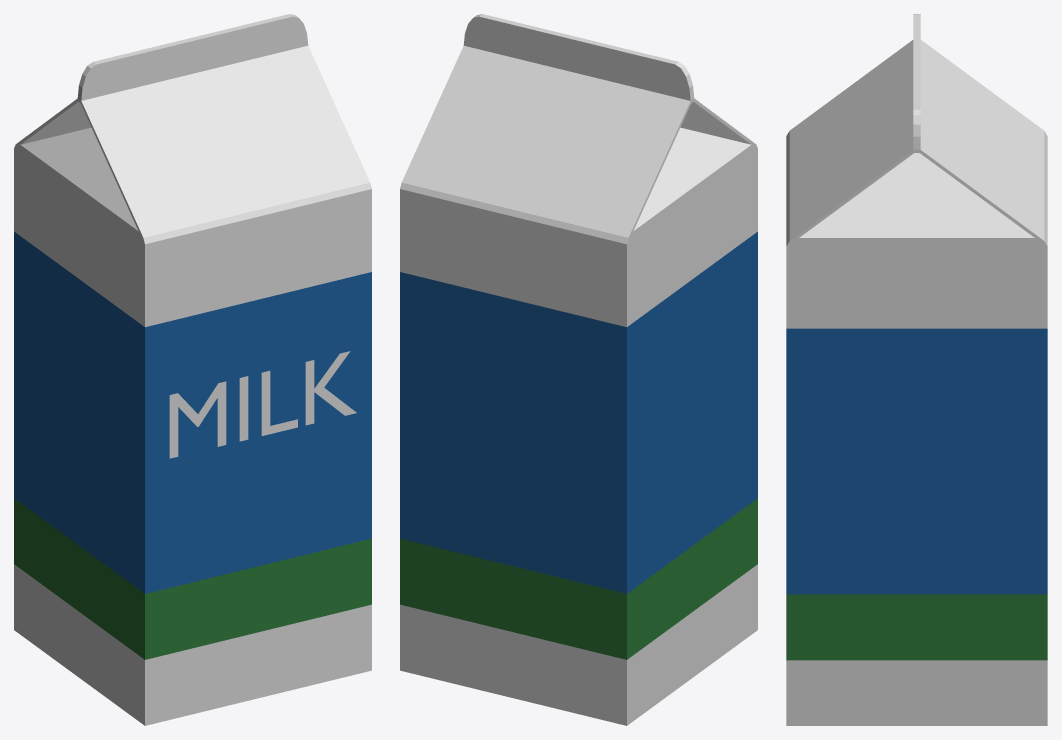
Rendered from Milk_Pack.glb.
The picture shows the model from 3 angles, left to right: view 1: azimuth 30°, elevation 25°; view 2: azimuth 150°, elevation 25°; view 3: azimuth 270°, elevation 25°; orthographic projection.
Visible parts, largest first — view 1: Milk_Pack; view 2: Milk_Pack; view 3: Milk_Pack.
Boxes of the visible parts, x1,y1,x2,y2 form: Milk_Pack: (14,14,371,725); Milk_Pack: (400,14,757,725); Milk_Pack: (786,14,1047,725).
Bounding box in the file's own units: 0.0812 × 0.2089 × 0.0812.
Materials: 1 (1 with a texture image).
